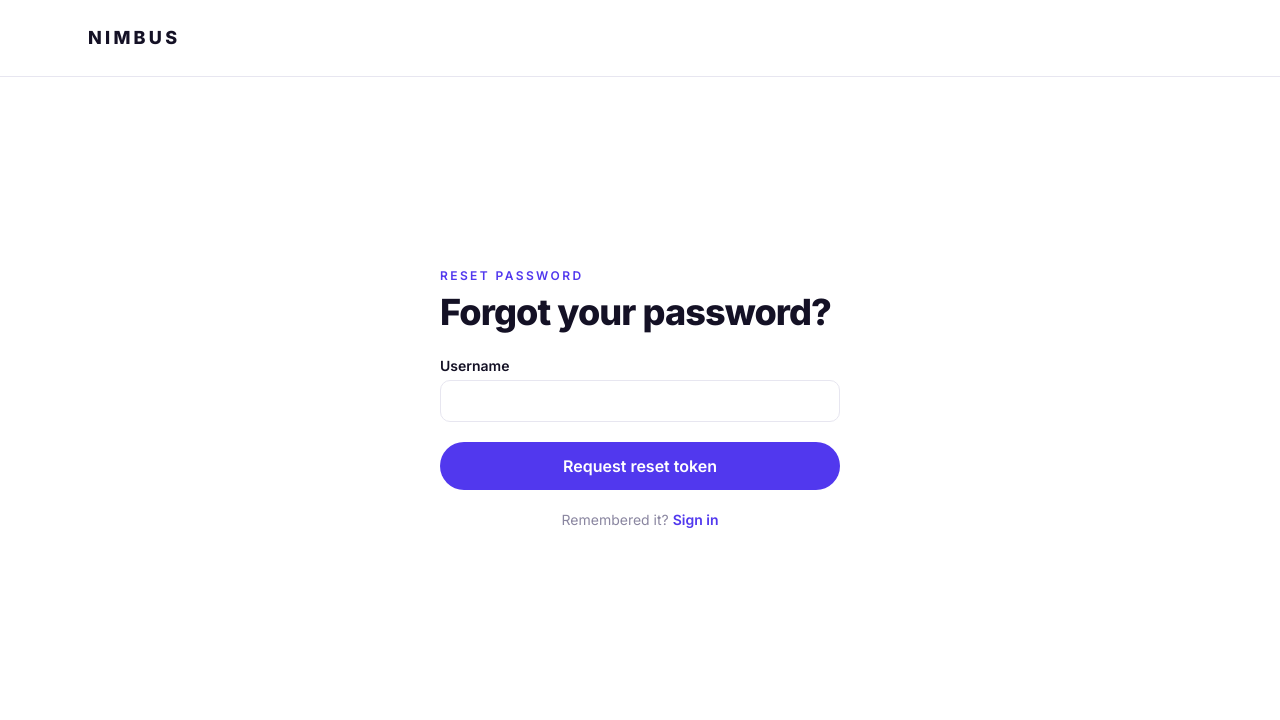
Test case: PasswordResetRequestPage › validates an empty username client-side
The width and height of the screenshot is (1280, 720).
Click the button "Request reset token".
click(640, 466)  # box top-left (440, 442), bottom-right (840, 490)
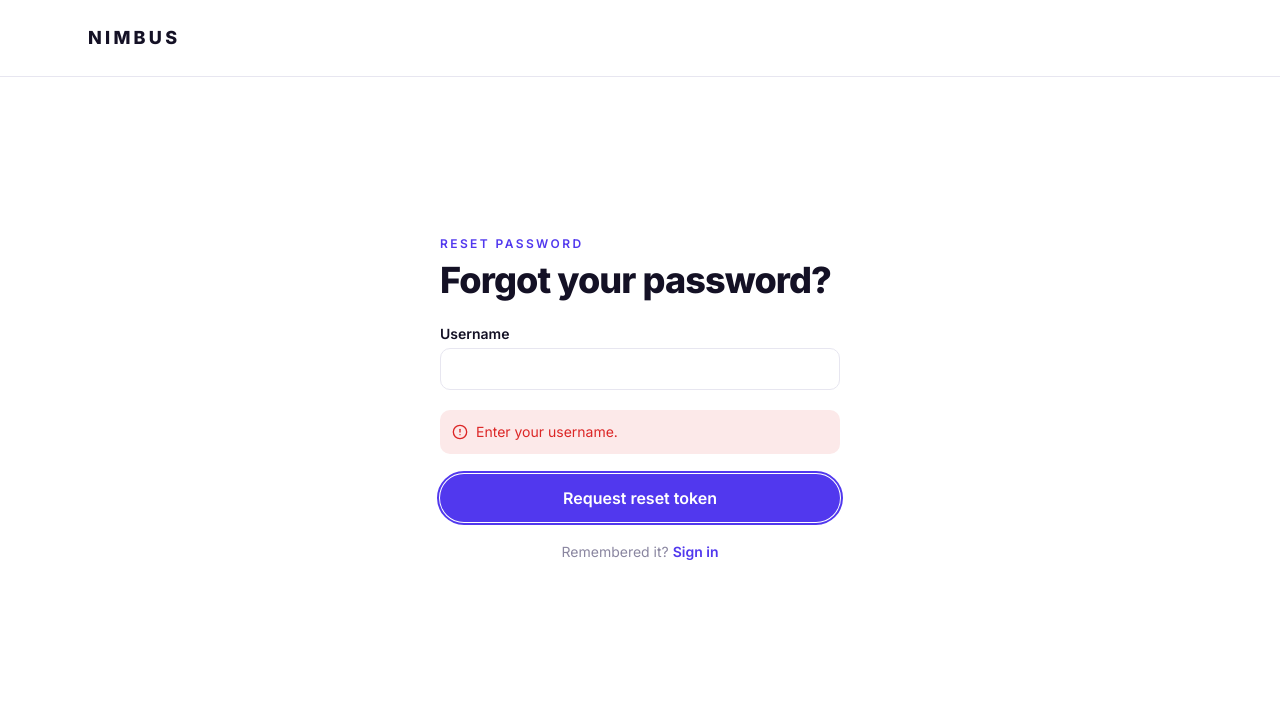
Result: the message shows "Enter your username" at top-left (476, 422), bottom-right (618, 440)
